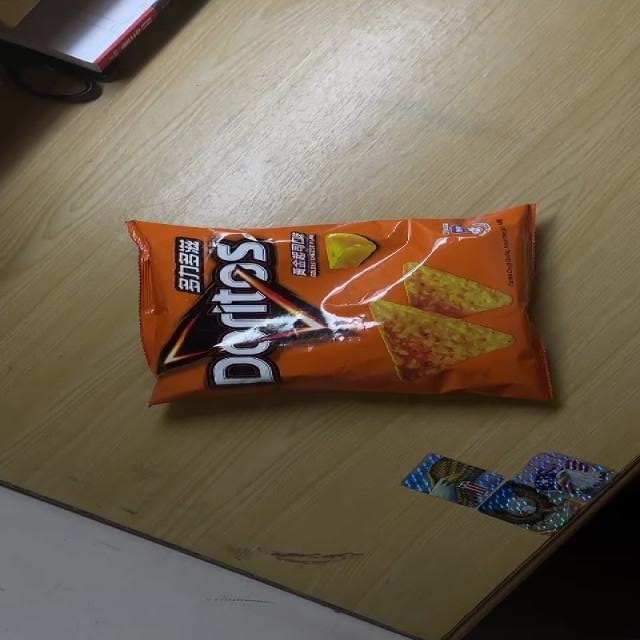Doritos: (120, 204, 560, 411)
